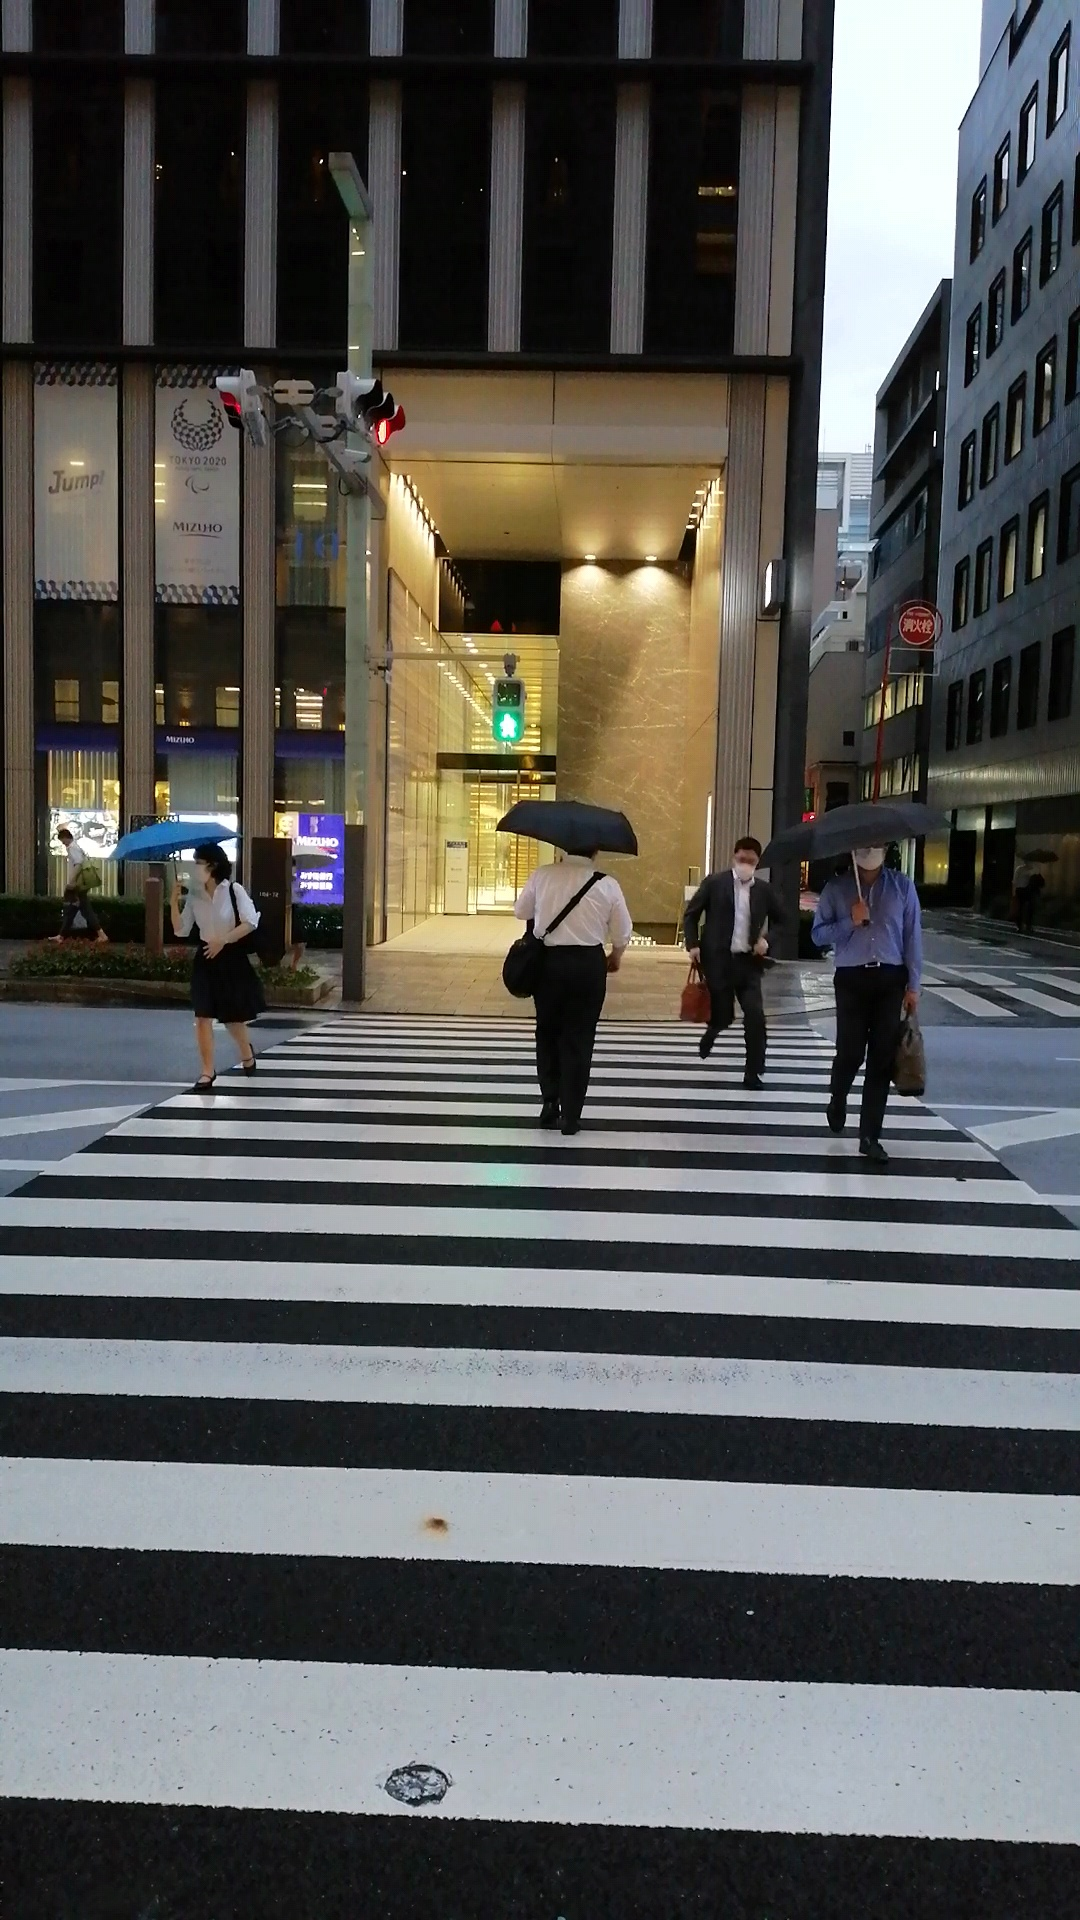green: (491, 676, 524, 742)
